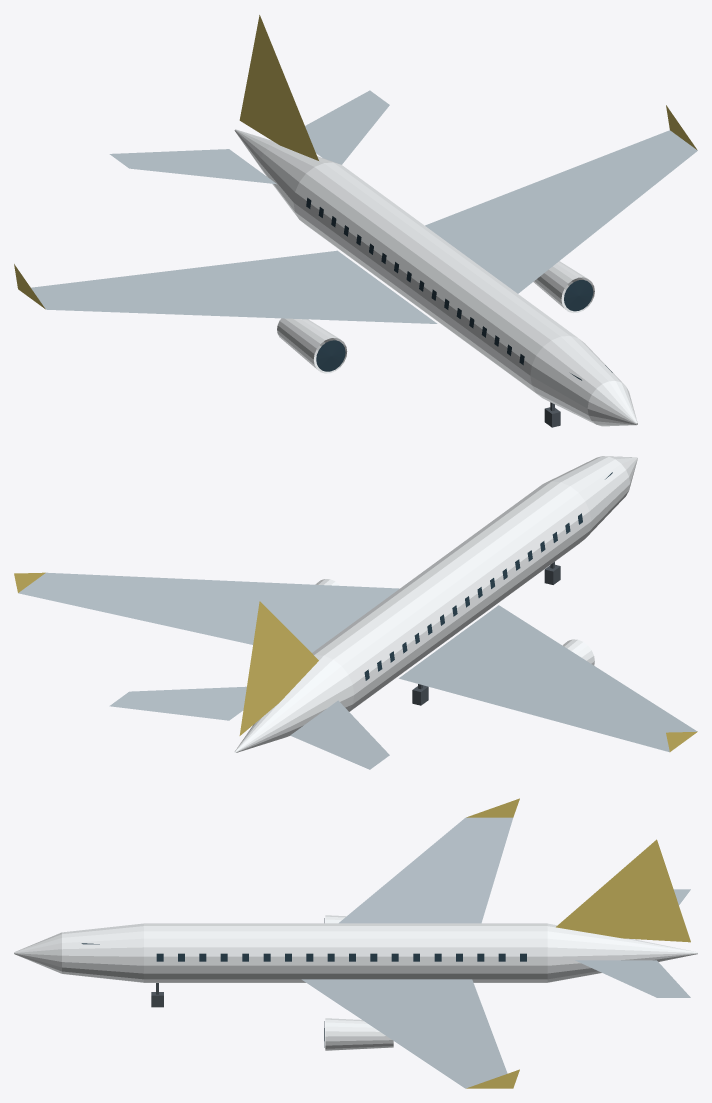
Rendered from a330-DLH.gltf.
The picture shows the model from 3 angles, top to bottom: view 1: azimuth 30°, elevation 25°; view 2: azimuth 150°, elevation 25°; view 3: azimuth 270°, elevation 25°; orthographic projection. The views are drawn at different scales.
Visible parts, largest first — view 1: object 1; view 2: object 1, Gear; view 3: object 1.
Part boxes in pixels (left/top/right/bottom): object 1: left=14, top=15, right=697, bottom=426; object 1: left=14, top=456, right=697, bottom=769; Gear: left=412, top=562, right=560, bottom=705; object 1: left=14, top=798, right=697, bottom=1088.
Bounding box in the file's own units: 60 × 17.16 × 64.
